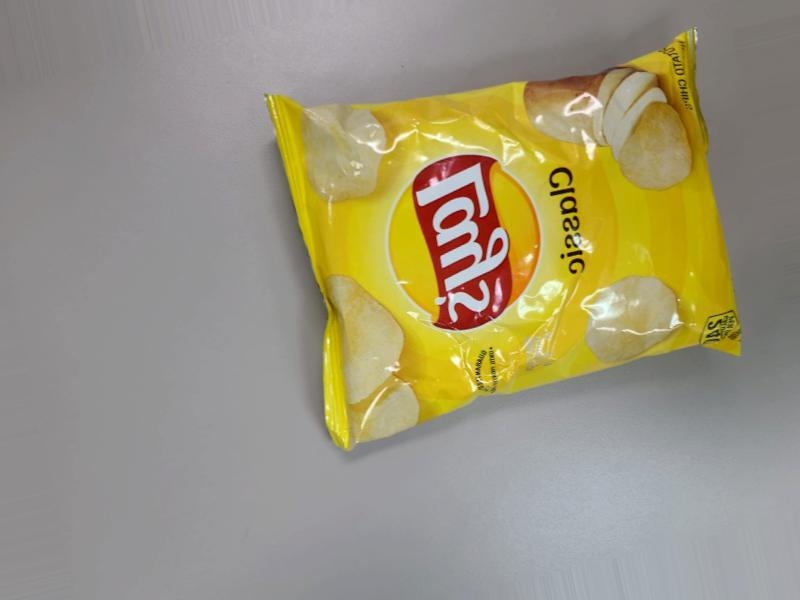lays: (325, 25, 705, 532)
